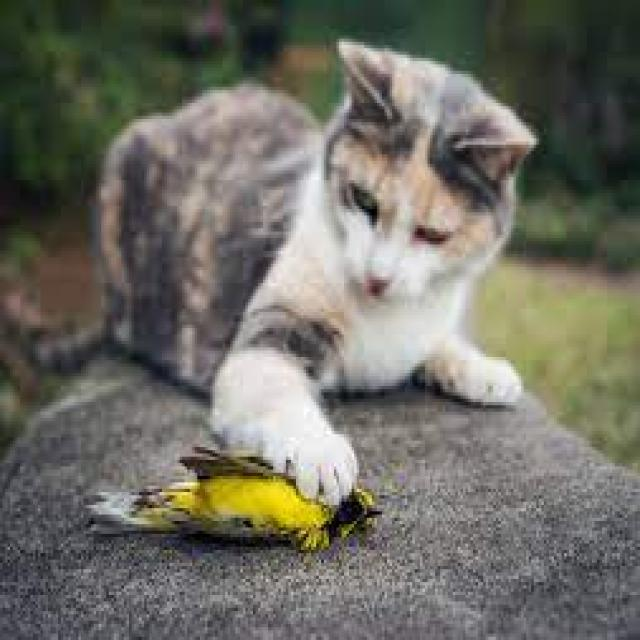brid: (117, 409, 390, 590)
cat: (125, 52, 562, 418)
